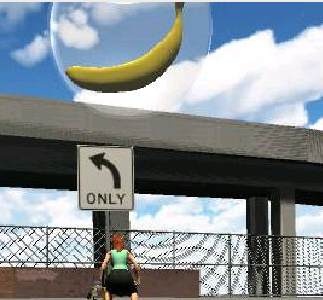arrow_left: (87, 152, 124, 190)
